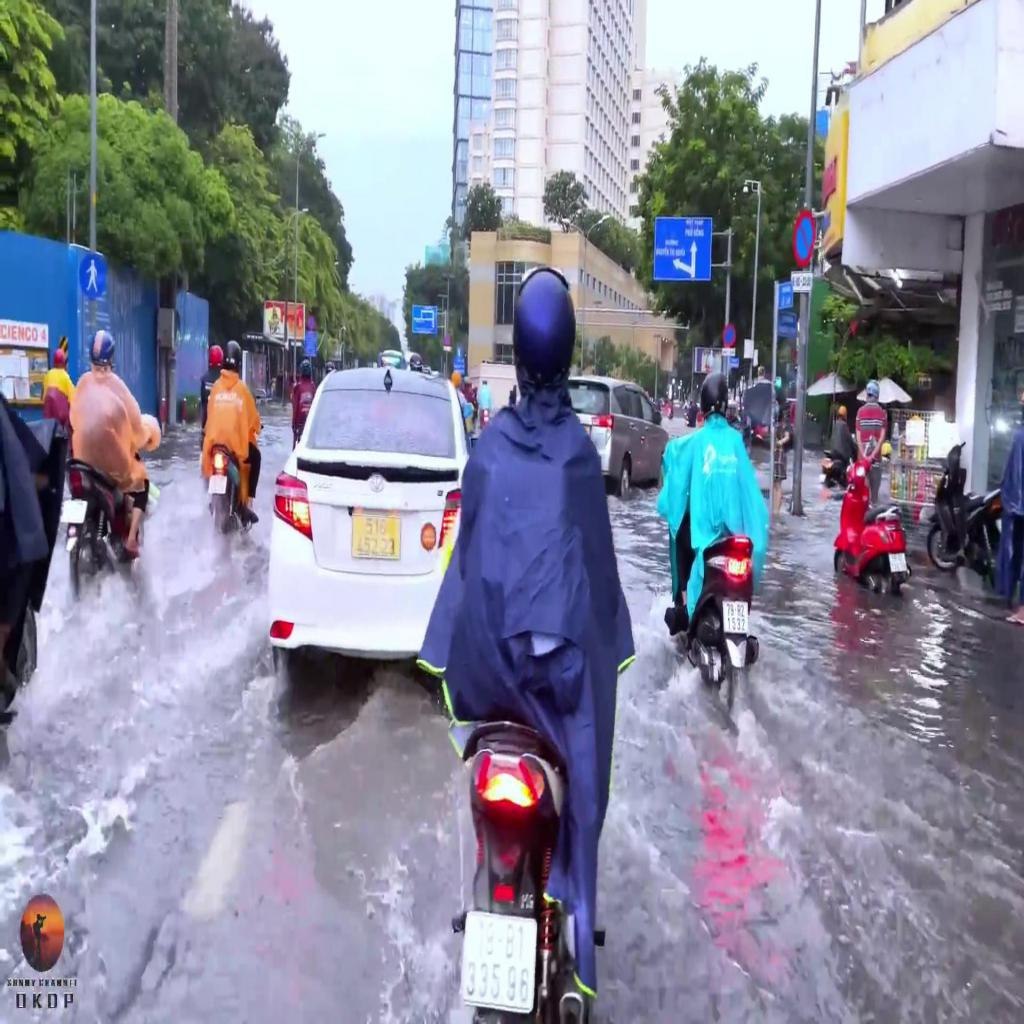cam_do_xe: (791, 206, 816, 267), (724, 320, 736, 348)
duong_cho_nguoi_di_bo: (80, 250, 107, 300)
khac: (654, 217, 712, 280), (790, 272, 814, 292)
